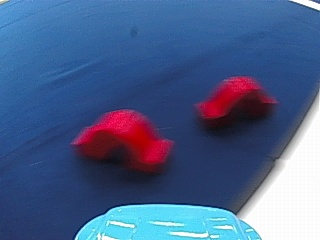bridge: (67, 103, 180, 174), (189, 71, 278, 131)
